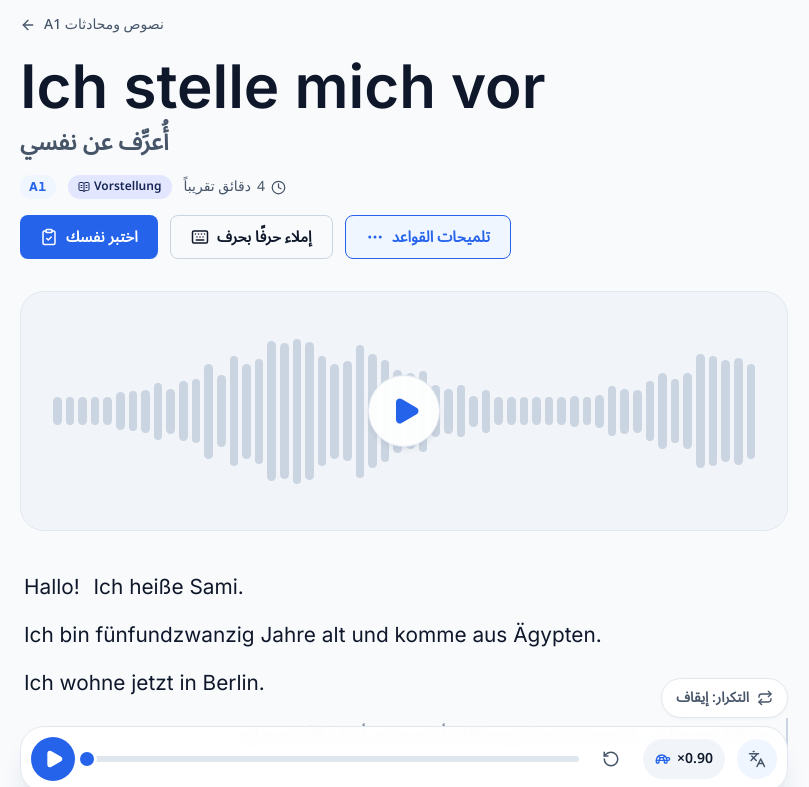
StoryPage — repeating › forgets the passage when the repeat is switched off
The width and height of the screenshot is (809, 787).
Click the button "التكرار: إيقاف". click: (725, 698)
box: [661,678,788,718]
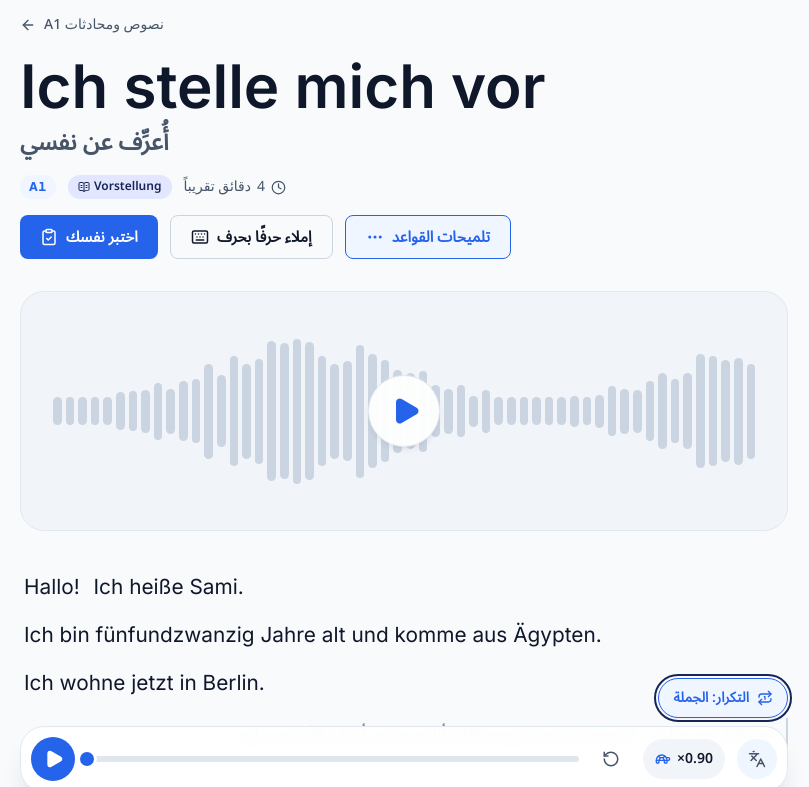
Click the button "التكرار: الجملة". click: (723, 698)
box: [658,678,788,718]
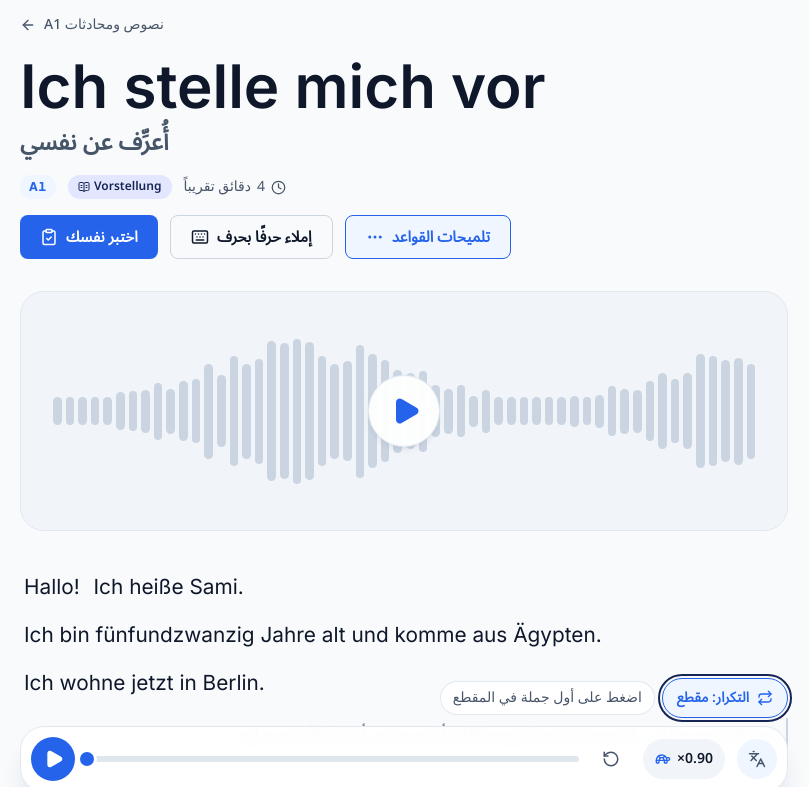
Click the button "Hallo!". click: (52, 587)
box: [20,563,84,611]
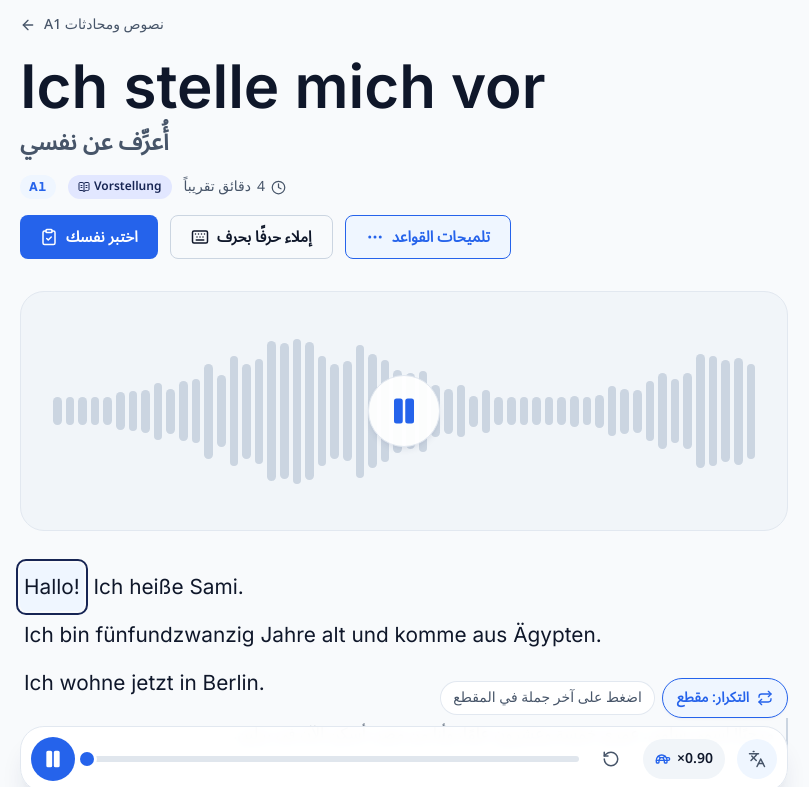
Click the button "Ich heiße Sami.". click: (169, 587)
box: [90,563,248,611]
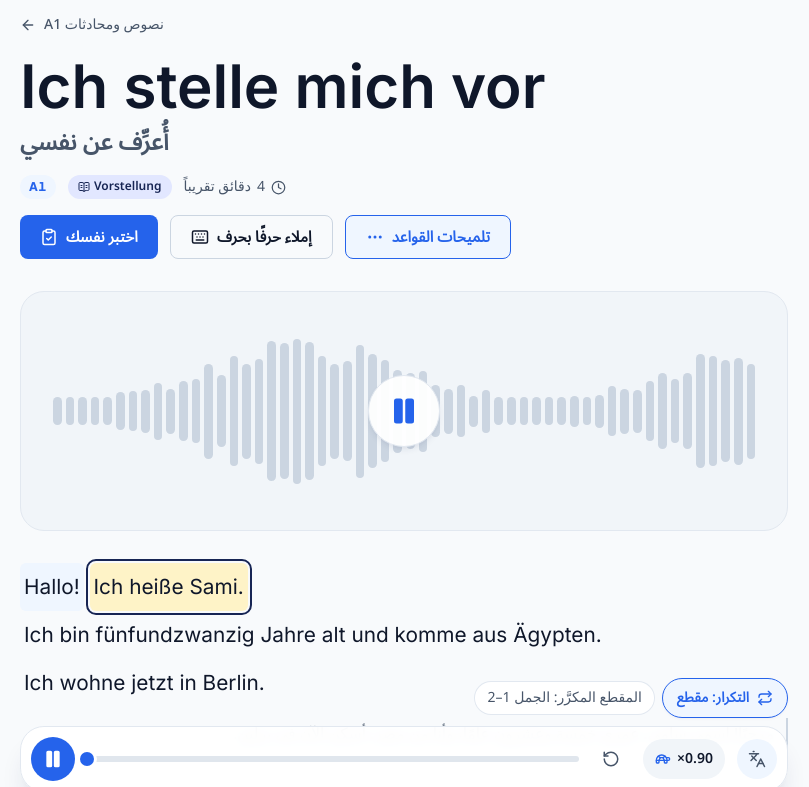
Click the button "التكرار: مقطع". click: (725, 698)
box: [662,678,788,718]
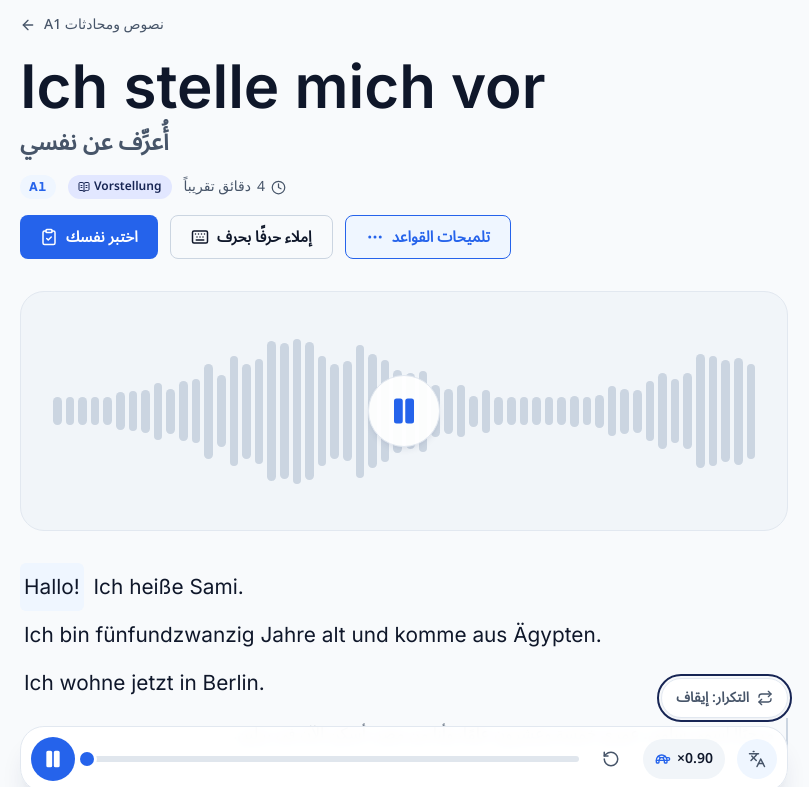
expect the text "المقطع المكرَّر" is gone: met
